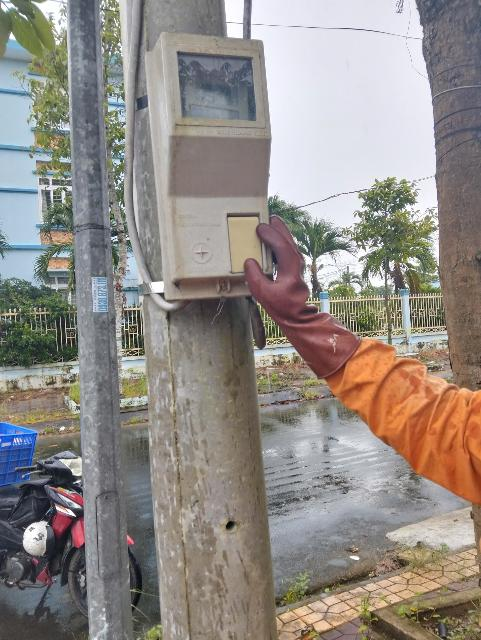gloves: (234, 203, 362, 390)
